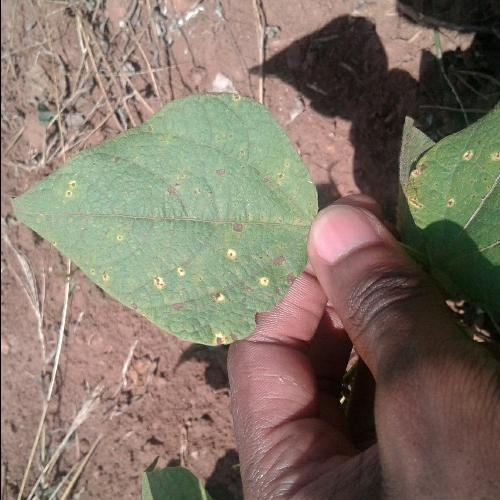embun tepung: (37, 57, 294, 222), (108, 200, 320, 348)
